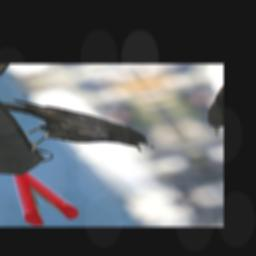Crow: (0, 79, 158, 173)
